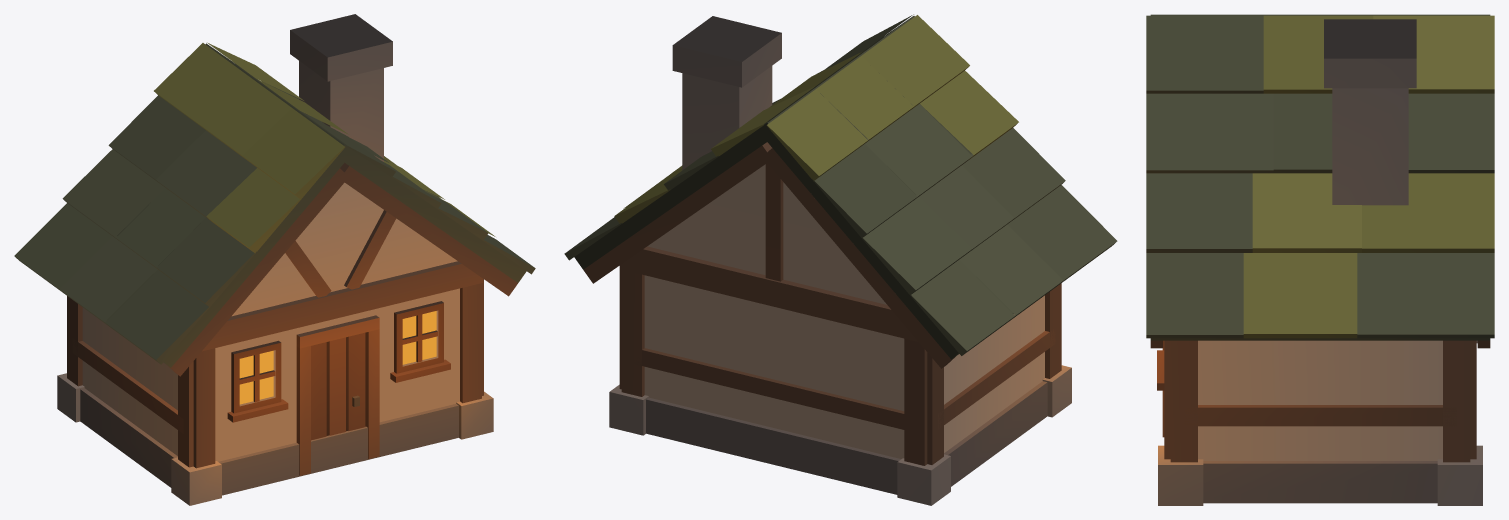
File: house.glb
3 renders of one model, left to right at view 1: azimuth 30°, elevation 25°; view 2: azimuth 150°, elevation 25°; view 3: azimuth 270°, elevation 25°, orthographic. The views are drawn at different scales.
Parts seen in each view (by area): view 1: lit, glow; view 2: lit; view 3: lit.
Part boxes in pixels (x1,y1,x2,y2): lit: [14, 14, 535, 505]; glow: [239, 311, 436, 404]; lit: [564, 14, 1117, 505]; lit: [1146, 14, 1494, 505].
Size of the model in its own units: 5.95 by 5.2 by 3.84.
